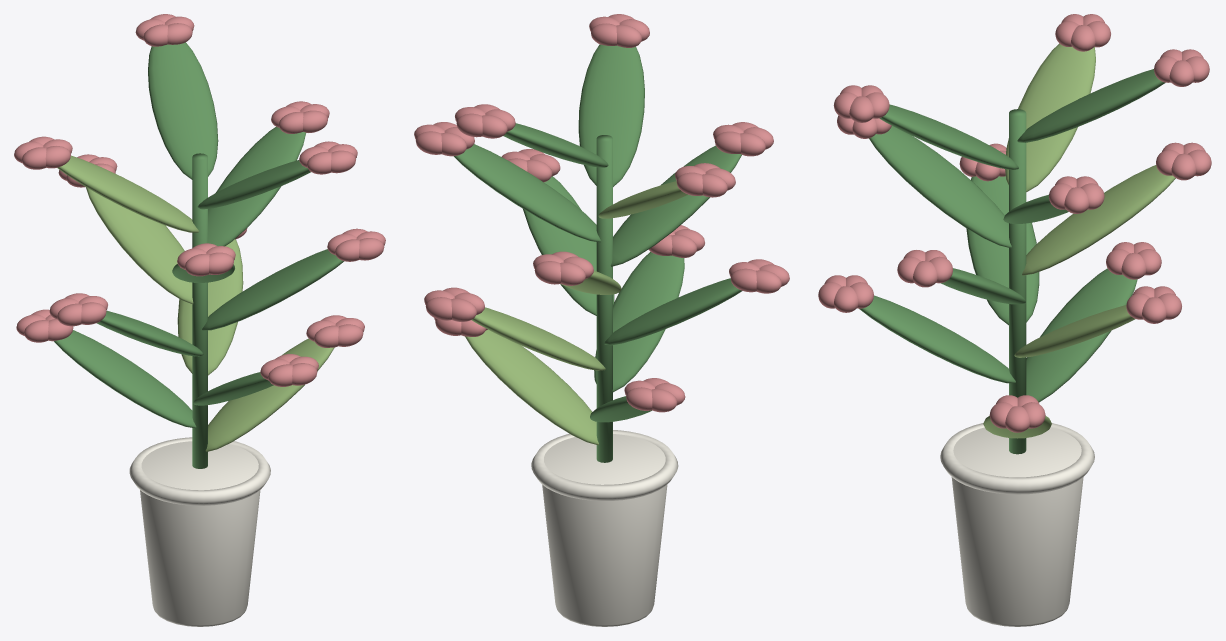
Rendered from atelier-flower-bouquet.glb.
3 renders of one model, left to right at view 1: azimuth 30°, elevation 25°; view 2: azimuth 150°, elevation 25°; view 3: azimuth 270°, elevation 25°, orthographic. The views are drawn at different scales.
Visible parts, largest first — view 1: leaf.014, ceramic.050, flower.001, leafLight.010; view 2: leaf.014, ceramic.050, flower.001, leafLight.010; view 3: leaf.014, ceramic.050, flower.001, leafLight.010.
Part boxes in pixels (x1=…): leaf.014: x1=54, y1=42, x2=343, y2=468; ceramic.050: x1=129, y1=437, x2=270, y2=626; flower.001: x1=14, y1=14, x2=385, y2=386; leafLight.010: x1=57, y1=155, x2=334, y2=451; leaf.014: x1=454, y1=44, x2=742, y2=462; ceramic.050: x1=531, y1=430, x2=678, y2=626; flower.001: x1=414, y1=14, x2=789, y2=412; leafLight.010: x1=465, y1=181, x2=687, y2=444; leaf.014: x1=859, y1=69, x2=1165, y2=454; ceramic.050: x1=940, y1=423, x2=1094, y2=626; flower.001: x1=818, y1=14, x2=1211, y2=432; leafLight.010: x1=983, y1=43, x2=1175, y2=438.
Bounding box in the file's own units: 0.7106 × 1.1 × 0.6861.
